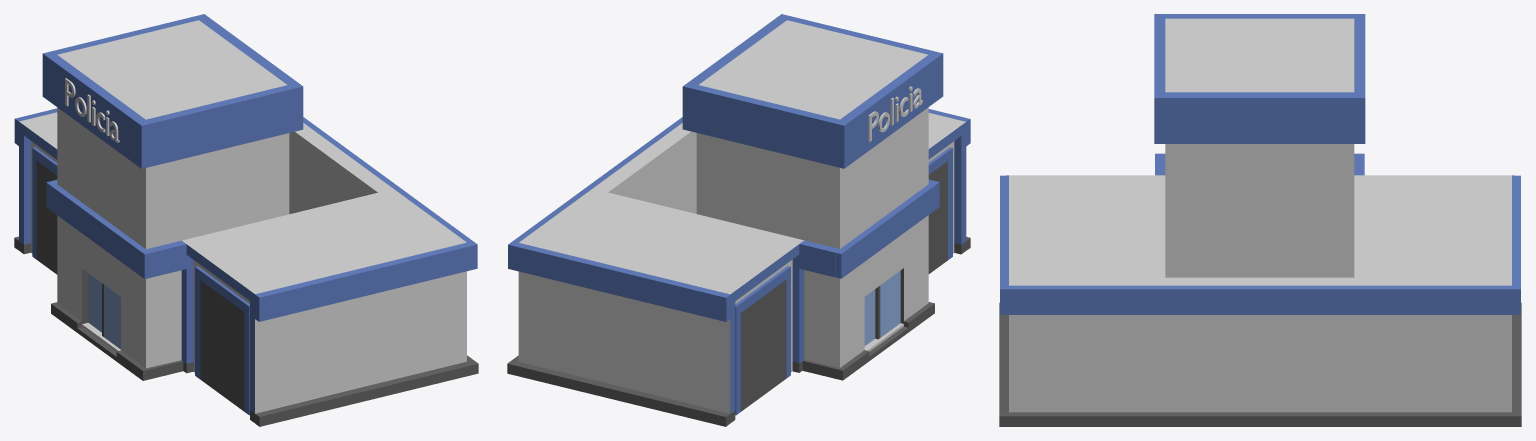
File: Policia.fbx
3 renders of one model, left to right at view 1: azimuth 30°, elevation 25°; view 2: azimuth 150°, elevation 25°; view 3: azimuth 270°, elevation 25°, orthographic. The views are drawn at different scales.
Visible parts, largest first — view 1: Cube.054; view 2: Cube.054; view 3: Cube.054.
Boxes of the visible parts, x1,y1,x2,y2 form: Cube.054: (14,14,478,426); Cube.054: (507,14,970,426); Cube.054: (999,14,1521,426).
Bounding box in the file's own units: 59.15 × 55.14 × 94.51.
